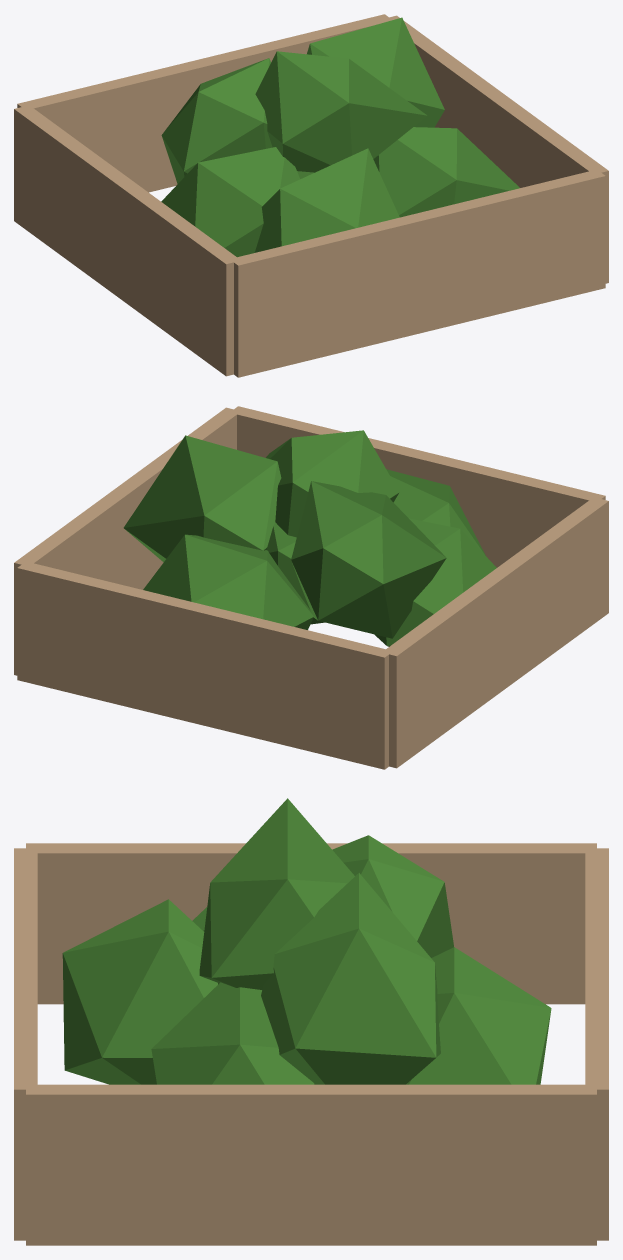
The model's file is build_compost.glb.
The picture shows the model from 3 angles, top to bottom: view 1: azimuth 30°, elevation 25°; view 2: azimuth 150°, elevation 25°; view 3: azimuth 270°, elevation 25°; orthographic projection. The views are drawn at different scales.
Parts seen in each view (by area): view 1: Baked, _MeshInstance3D_149, _MeshInstance3D_146, _MeshInstance3D_148, _MeshInstance3D_145, _MeshInstance3D_151, _MeshInstance3D_150; view 2: Baked, _MeshInstance3D_151, _MeshInstance3D_150, _MeshInstance3D_147, _MeshInstance3D_149, _MeshInstance3D_146, _MeshInstance3D_148, _MeshInstance3D_144; view 3: Baked, _MeshInstance3D_150, _MeshInstance3D_148, _MeshInstance3D_149, _MeshInstance3D_147, _MeshInstance3D_145, _MeshInstance3D_151.
Boxes of the visible parts, <box> form: Baked: <box>14,14,608,377</box>; _MeshInstance3D_149: <box>255,51,427,172</box>; _MeshInstance3D_146: <box>161,147,299,257</box>; _MeshInstance3D_148: <box>254,148,399,252</box>; _MeshInstance3D_145: <box>373,127,519,217</box>; _MeshInstance3D_151: <box>161,58,272,183</box>; _MeshInstance3D_150: <box>307,17,444,127</box>; Baked: <box>14,406,608,769</box>; _MeshInstance3D_151: <box>291,481,446,638</box>; _MeshInstance3D_150: <box>123,435,281,562</box>; _MeshInstance3D_147: <box>143,534,313,629</box>; _MeshInstance3D_149: <box>266,430,399,537</box>; _MeshInstance3D_146: <box>374,518,496,646</box>; _MeshInstance3D_148: <box>386,469,485,555</box>; _MeshInstance3D_144: <box>266,522,324,624</box>; Baked: <box>14,843,608,1245</box>; _MeshInstance3D_150: <box>261,873,440,1084</box>; _MeshInstance3D_148: <box>62,899,217,1084</box>; _MeshInstance3D_149: <box>199,798,354,989</box>; _MeshInstance3D_147: <box>406,947,551,1084</box>; _MeshInstance3D_145: <box>151,982,314,1084</box>; _MeshInstance3D_151: <box>332,835,453,957</box>.
Size of the model in its own units: 1.25 by 0.738 by 1.25.
